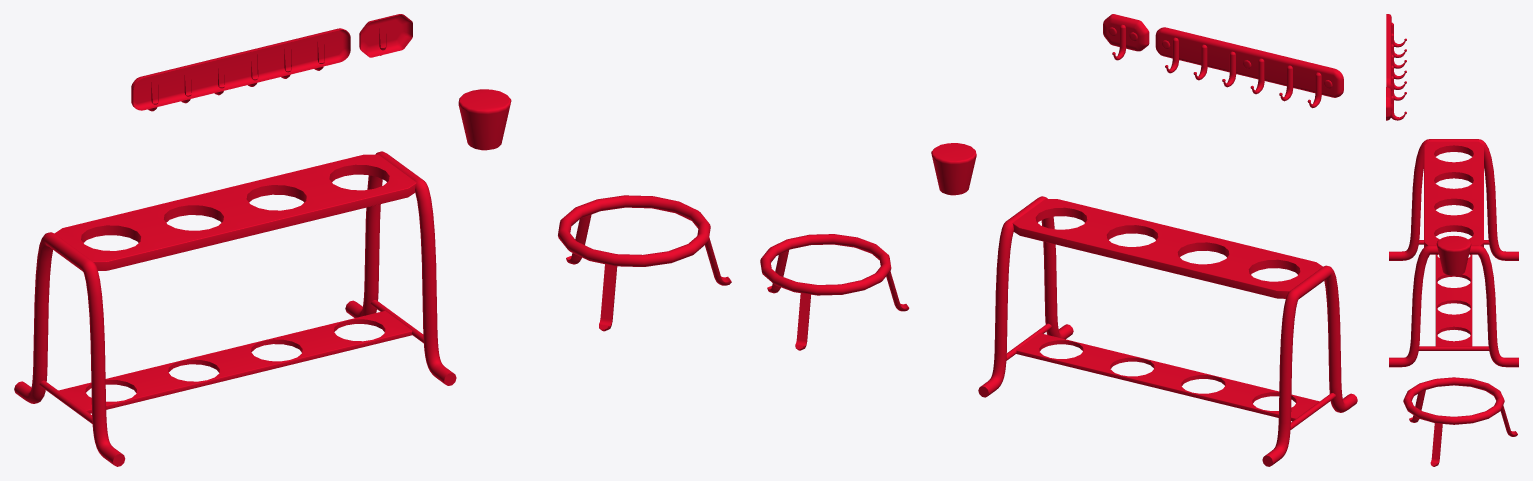
Rendered from SM_StuffwHangers.fbx.
3 views of the same model, side by side, from view 1: azimuth 30°, elevation 25°; view 2: azimuth 150°, elevation 25°; view 3: azimuth 270°, elevation 25° (orthographic). The views are drawn at different scales.
Parts seen in each view (by area): view 1: SM_PotionStand, SM_Hangers, SM_BallPotion_Stand, SM_Cap, SM_Hanger; view 2: SM_PotionStand, SM_Hangers, SM_BallPotion_Stand, SM_Cap, SM_Hanger; view 3: SM_PotionStand, SM_BallPotion_Stand, SM_Cap, SM_Hangers, SM_Hanger.
Boxes of the visible parts, <box> form: SM_PotionStand: <box>14,151,456,466</box>; SM_Hangers: <box>131,28,350,111</box>; SM_BallPotion_Stand: <box>558,195,731,331</box>; SM_Cap: <box>458,89,511,150</box>; SM_Hanger: <box>359,14,412,57</box>; SM_PotionStand: <box>978,196,1357,466</box>; SM_Hangers: <box>1155,27,1343,108</box>; SM_BallPotion_Stand: <box>760,234,909,350</box>; SM_Cap: <box>931,143,976,195</box>; SM_Hanger: <box>1103,14,1149,60</box>; SM_PotionStand: <box>1389,139,1518,367</box>; SM_BallPotion_Stand: <box>1403,377,1517,466</box>; SM_Cap: <box>1436,236,1471,275</box>; SM_Hangers: <box>1386,14,1406,100</box>; SM_Hanger: <box>1386,87,1406,120</box>.
Bounding box in the file's own units: 733 × 413 × 197.
